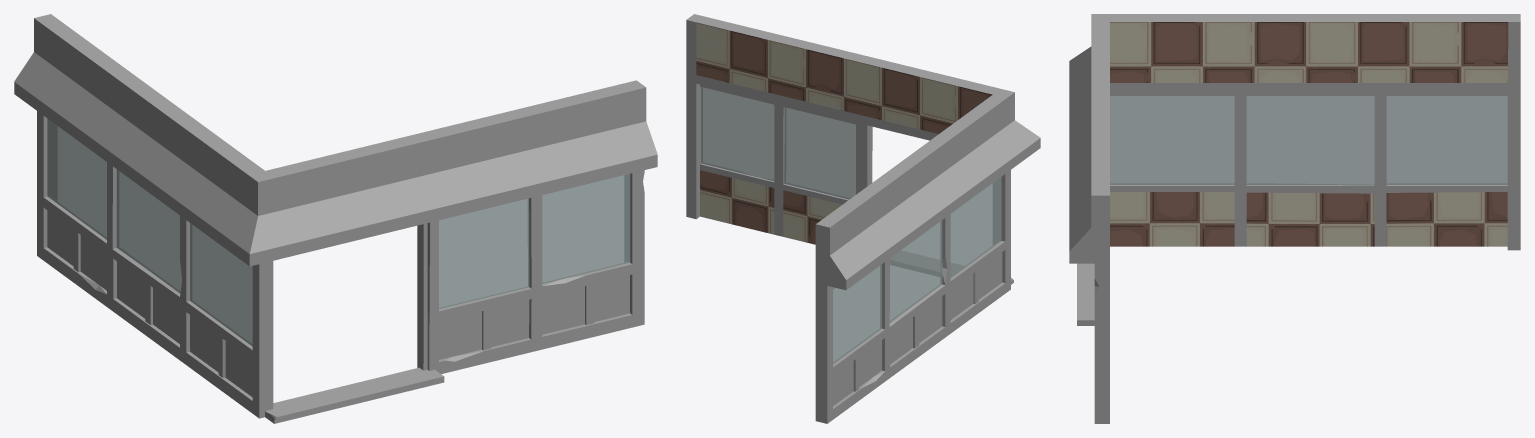
The model's file is SM_Bld_ShopFront_05.fbx.
The picture shows the model from 3 angles, left to right: view 1: azimuth 30°, elevation 25°; view 2: azimuth 150°, elevation 25°; view 3: azimuth 270°, elevation 25°; orthographic projection. The views are drawn at different scales.
Visible parts, largest first — view 1: SM_Bld_ShopFront_05, SM_Bld_ShopFront_05_Glass; view 2: SM_Bld_ShopFront_05, SM_Bld_ShopFront_05_Glass; view 3: SM_Bld_ShopFront_05, SM_Bld_ShopFront_05_Glass.
Part boxes in pixels (<box>): SM_Bld_ShopFront_05: <box>14,14,657,423</box>; SM_Bld_ShopFront_05_Glass: <box>47,118,630,346</box>; SM_Bld_ShopFront_05: <box>686,14,1040,423</box>; SM_Bld_ShopFront_05_Glass: <box>701,87,1001,364</box>; SM_Bld_ShopFront_05: <box>1069,14,1520,423</box>; SM_Bld_ShopFront_05_Glass: <box>1110,96,1507,185</box>.
Size of the model in its own units: 537 by 300 by 537.
